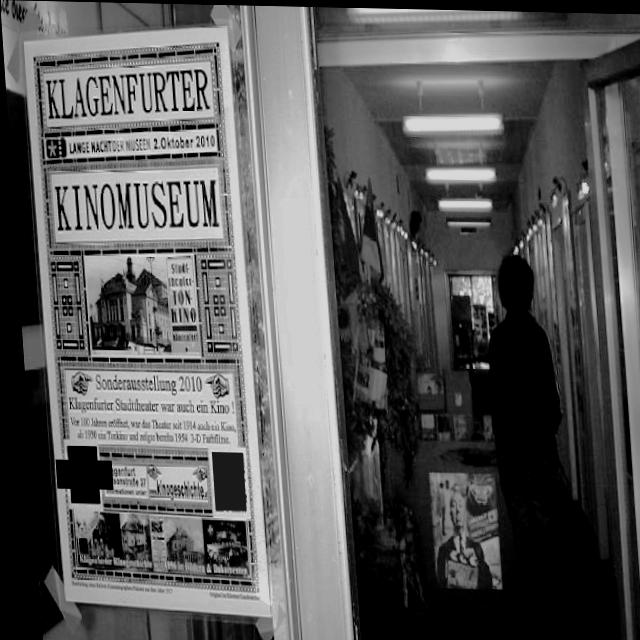qr_code: (204, 451, 240, 511), (55, 453, 100, 496)
